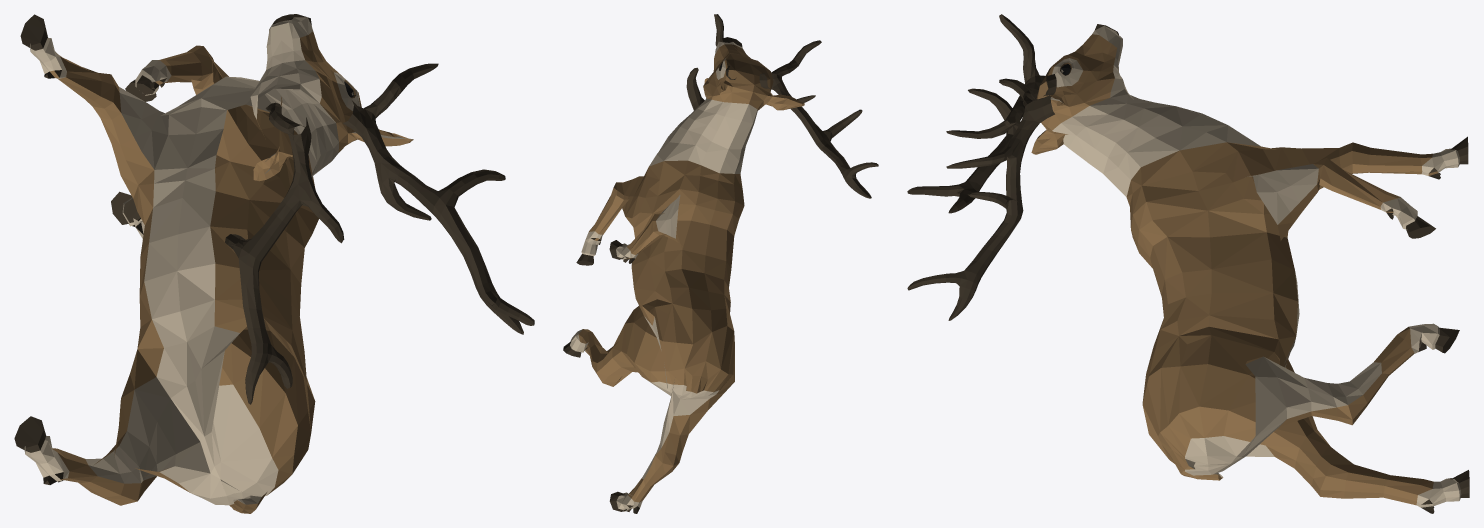
Rendered from stag-walk-1.glb.
3 renders of one model, left to right at view 1: azimuth 30°, elevation 25°; view 2: azimuth 150°, elevation 25°; view 3: azimuth 270°, elevation 25°, orthographic. The views are drawn at different scales.
Bounding box in the file's own units: 0.865 × 1.81 × 1.83.
